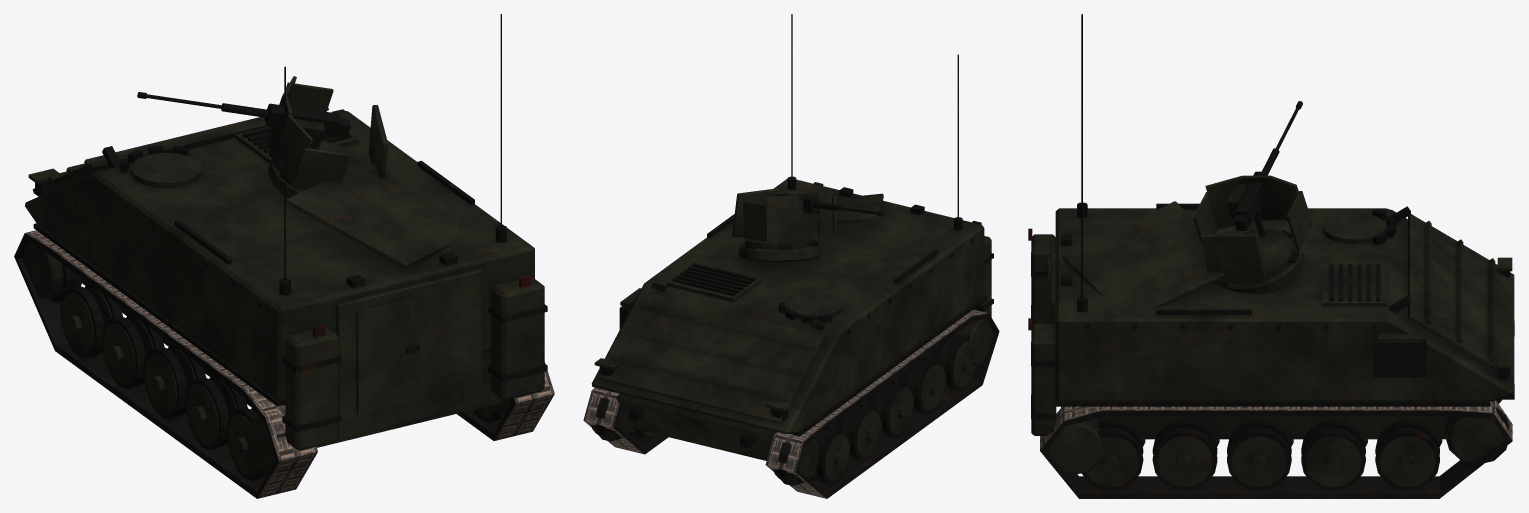
File: m113-wreck.glb
The picture shows the model from 3 angles, left to right: view 1: azimuth 30°, elevation 25°; view 2: azimuth 150°, elevation 25°; view 3: azimuth 270°, elevation 25°; orthographic projection. The views are drawn at different scales.
Visible parts, largest first — view 1: hull, turret; view 2: hull, turret; view 3: hull, turret.
Part boxes in pixels (box(x1,y1,x2,y2)): hull: box(14, 14, 554, 498); turret: box(137, 76, 387, 198); hull: box(583, 14, 999, 498); turret: box(732, 188, 884, 262); hull: box(1028, 14, 1514, 498); turret: box(1193, 101, 1312, 293).
Bounding box in the file's own units: 2.71 × 3.93 × 4.59.
2 materials, 2 textured.
